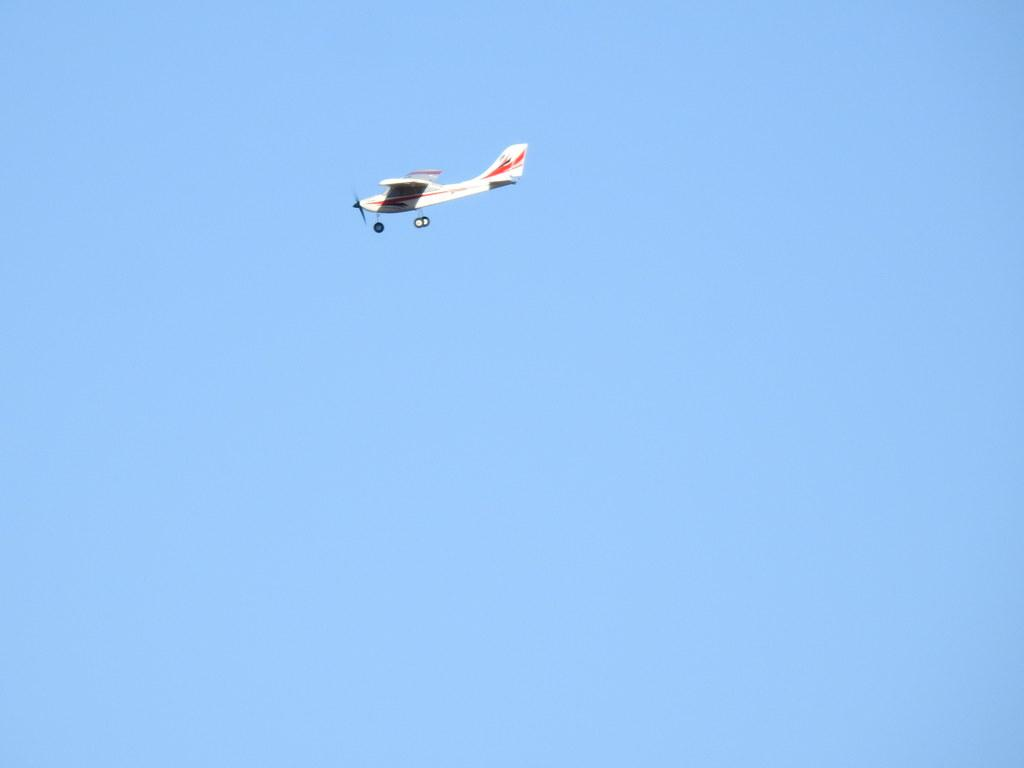plane: (352, 142, 529, 234)
